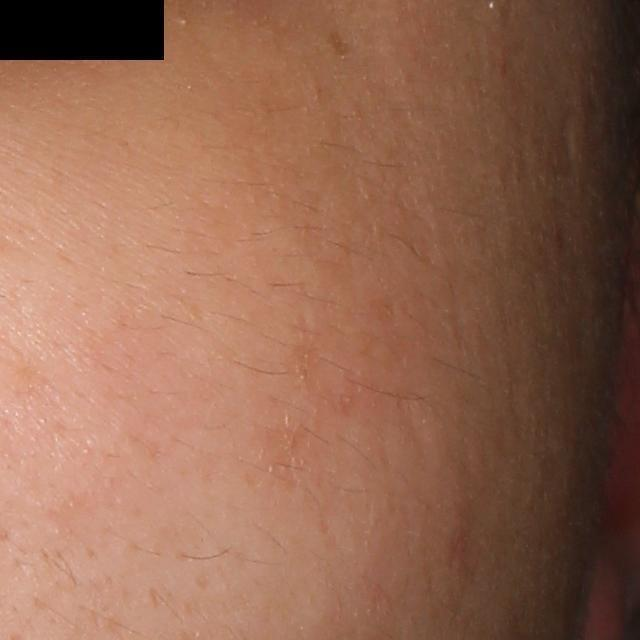melasma: (325, 28, 356, 58)
